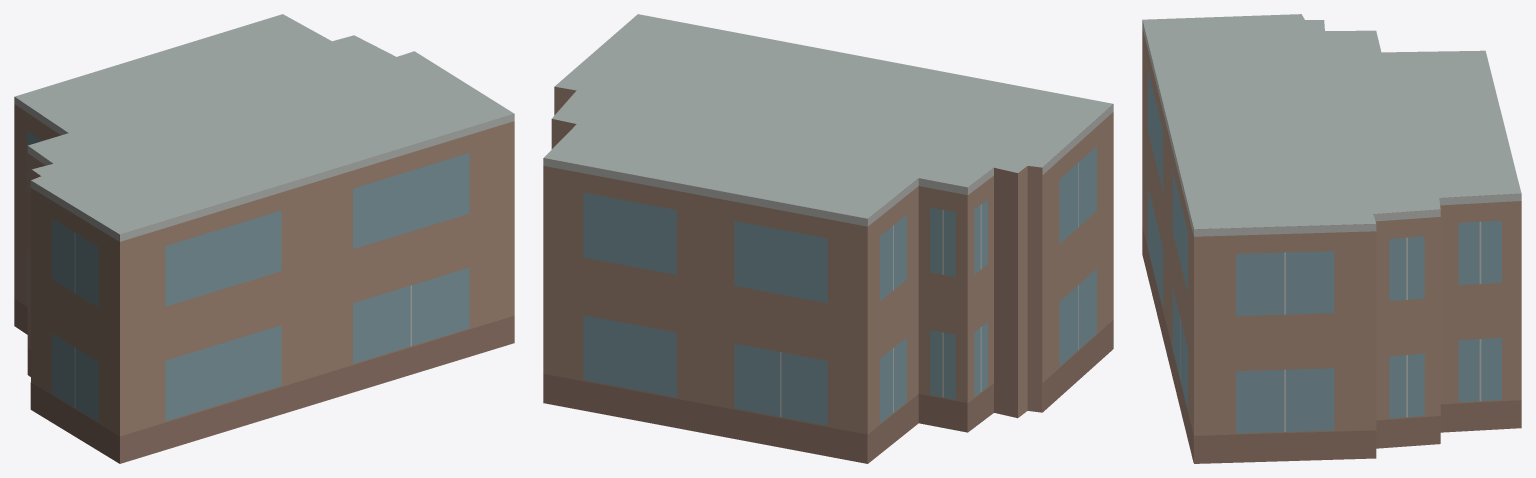
The model's file is survey-upis-33011694.glb.
3 views of the same model, side by side, from view 1: azimuth 30°, elevation 25°; view 2: azimuth 150°, elevation 25°; view 3: azimuth 270°, elevation 25° (orthographic). The views are drawn at different scales.
Visible parts, largest first — view 1: survey-upis-33011694.tmp; view 2: survey-upis-33011694.tmp; view 3: survey-upis-33011694.tmp.
Part boxes in pixels (x1,y1,x2,y2): survey-upis-33011694.tmp: [14, 14, 514, 463]; survey-upis-33011694.tmp: [543, 14, 1113, 463]; survey-upis-33011694.tmp: [1142, 14, 1521, 463].
Bounding box in the file's own units: 14.96 × 7.6 × 11.14.
